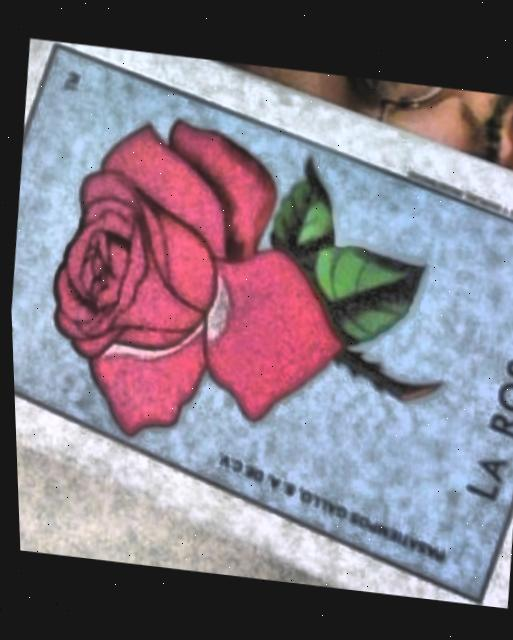La Rosa: (9, 47, 513, 604)
